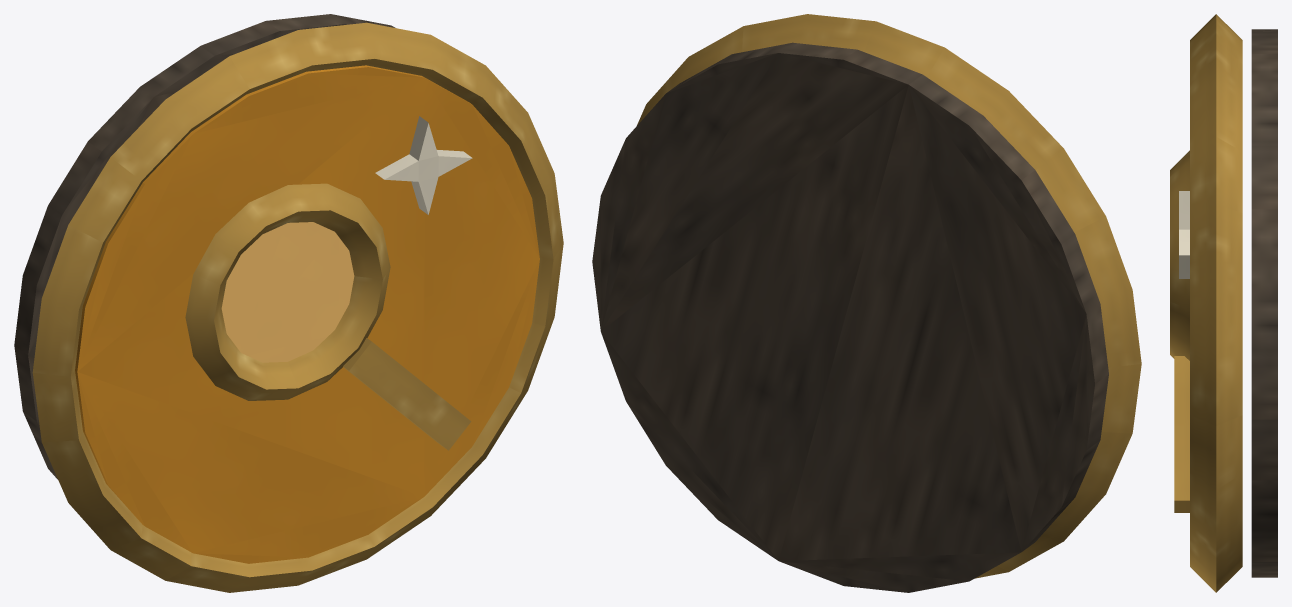
File: SM_Emblem_Scavenger.fbx
3 renders of one model, left to right at view 1: azimuth 30°, elevation 25°; view 2: azimuth 150°, elevation 25°; view 3: azimuth 270°, elevation 25°, orthographic. The views are drawn at different scales.
Visible parts, largest first — view 1: SM_Emblem_Scavenger; view 2: SM_Emblem_Scavenger; view 3: SM_Emblem_Scavenger.
Boxes of the visible parts, left/top/right/bottom form: SM_Emblem_Scavenger: left=14, top=14, right=563, bottom=592; SM_Emblem_Scavenger: left=592, top=14, right=1141, bottom=592; SM_Emblem_Scavenger: left=1170, top=14, right=1277, bottom=592.
Size of the model in its own units: 2.64 by 2.64 by 0.49.
Materials: 1 (1 with a texture image).
